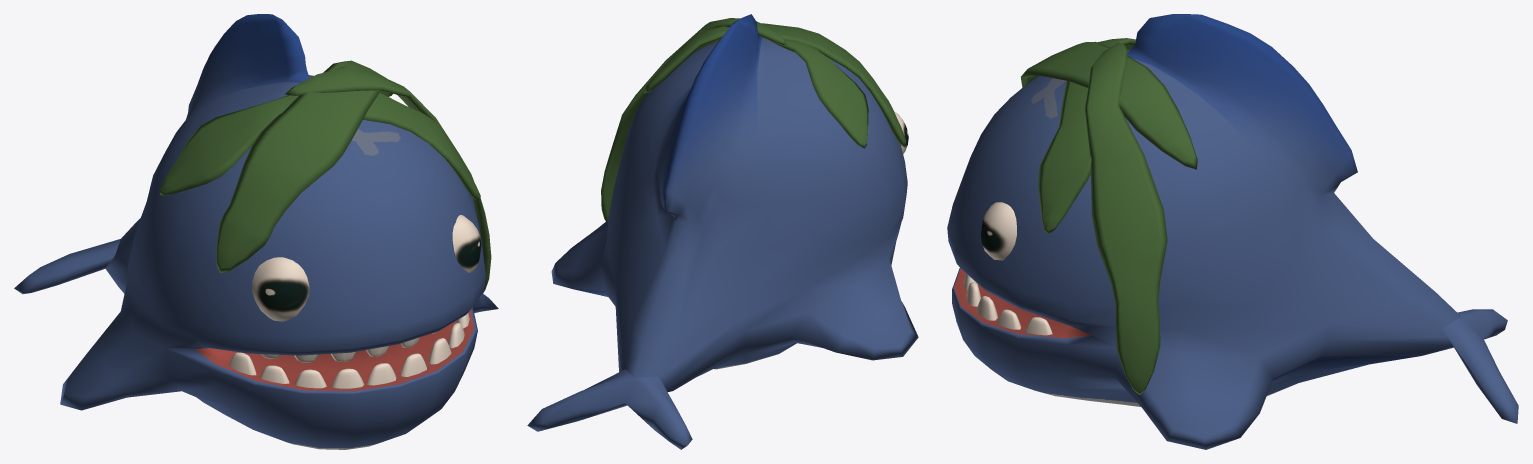
File: Boss_B_Idle.fbx
3 renders of one model, left to right at view 1: azimuth 30°, elevation 25°; view 2: azimuth 150°, elevation 25°; view 3: azimuth 270°, elevation 25°, orthographic. The views are drawn at different scales.
Parts seen in each view (by area): view 1: Boss_B; view 2: Boss_B; view 3: Boss_B.
Part boxes in pixels (x1,y1,x2,y2): Boss_B: (14, 14, 498, 449); Boss_B: (527, 14, 918, 449); Boss_B: (947, 14, 1518, 449).
Size of the model in its own units: 11.05 by 9.81 by 13.27.
